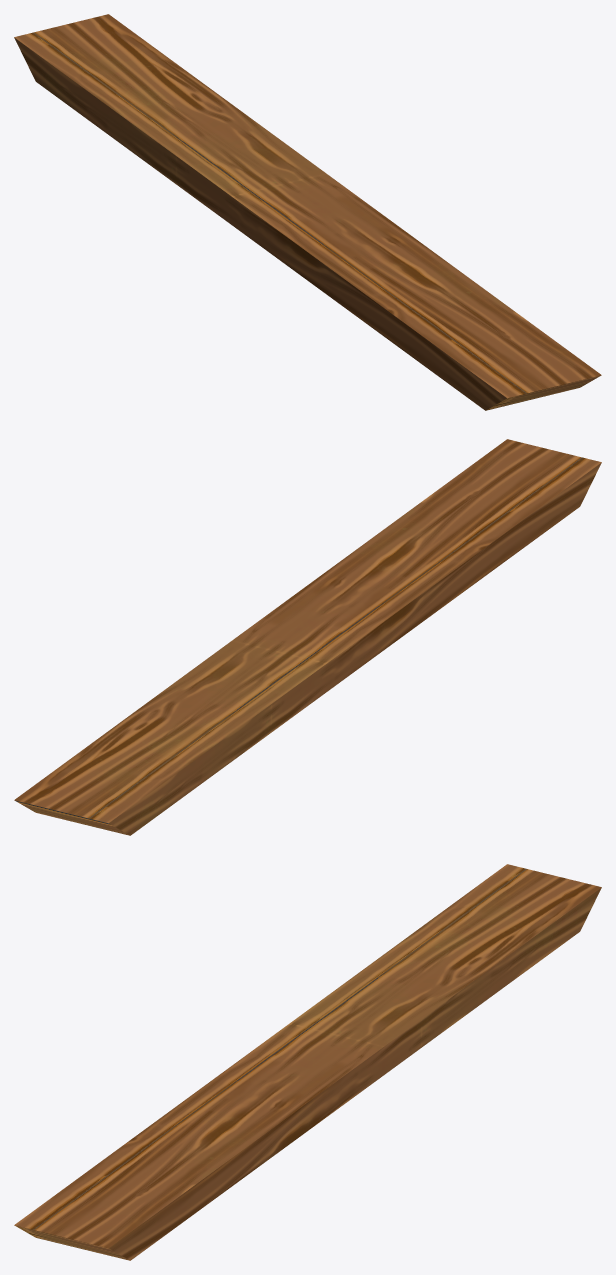
3 renders of one model, top to bottom at view 1: azimuth 30°, elevation 25°; view 2: azimuth 150°, elevation 25°; view 3: azimuth 330°, elevation 25°, orthographic.
Visible parts, largest first — view 1: Cube.1124; view 2: Cube.1124; view 3: Cube.1124.
Part boxes in pixels (left/top/right/bottom): Cube.1124: left=14, top=14, right=601, bottom=410; Cube.1124: left=14, top=439, right=601, bottom=835; Cube.1124: left=14, top=864, right=601, bottom=1260.
Bounding box in the file's own units: 90.65 × 26.07 × 818.
Materials: 1 (1 with a texture image).
